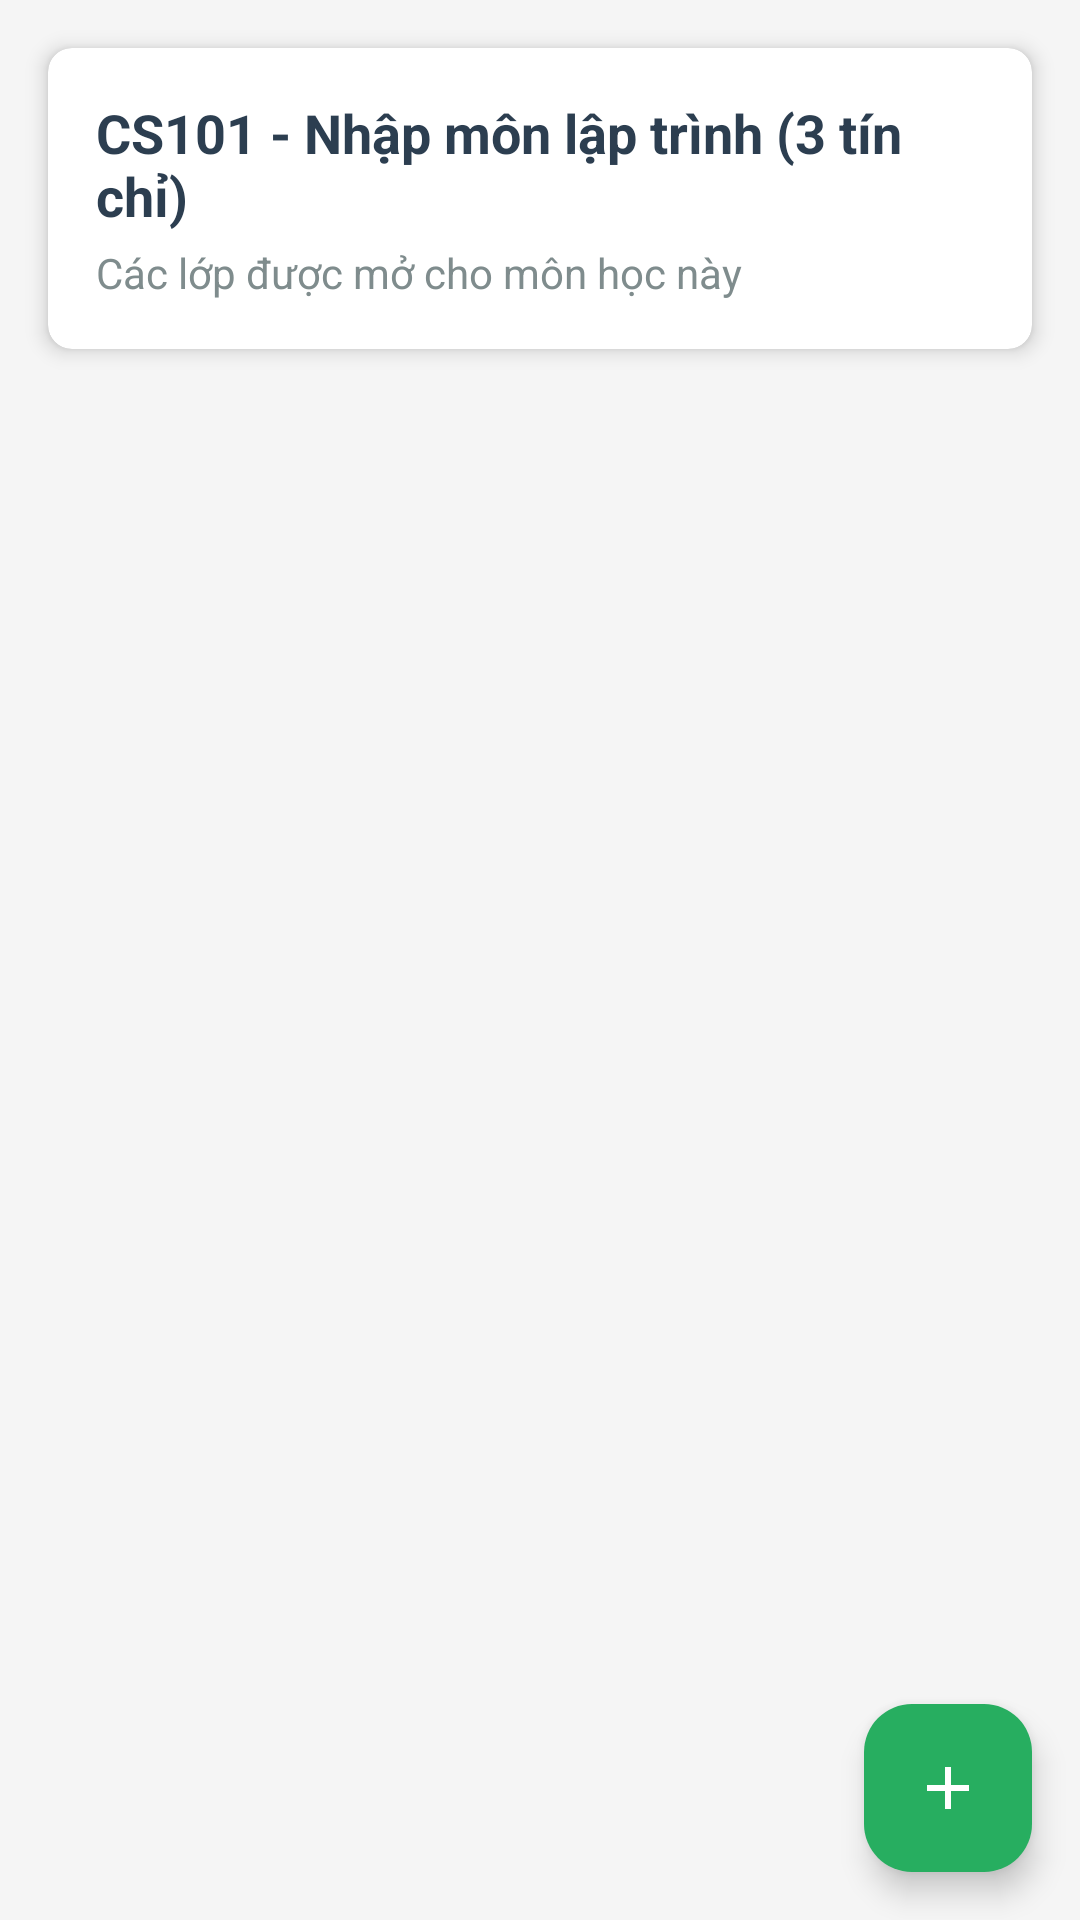

Icon bounding boxes for this 1080x1920 phone screenshot, format (x1, y1, x2, y2):
Thêm lớp học mới: (864, 1704, 1032, 1872)
